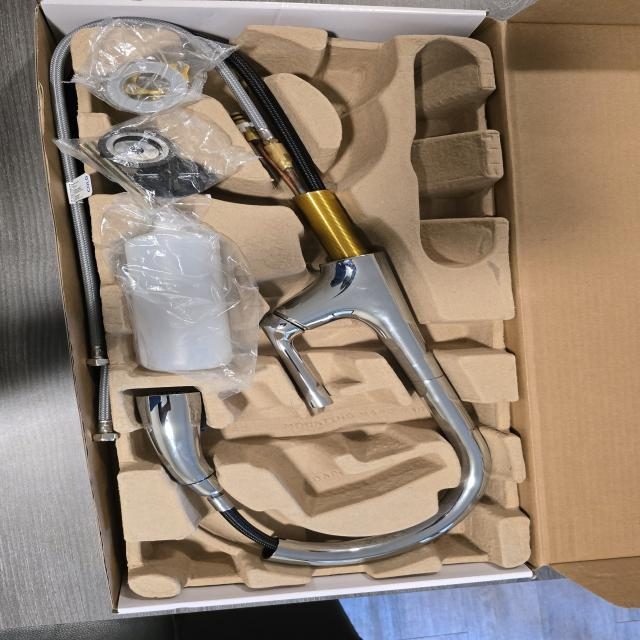1: (132, 31, 495, 568)
2m: (220, 382, 442, 516)
3: (117, 201, 234, 370)
4m: (411, 38, 497, 268)
5m: (311, 54, 387, 107)
6: (65, 16, 241, 114)
7: (50, 107, 263, 211)
